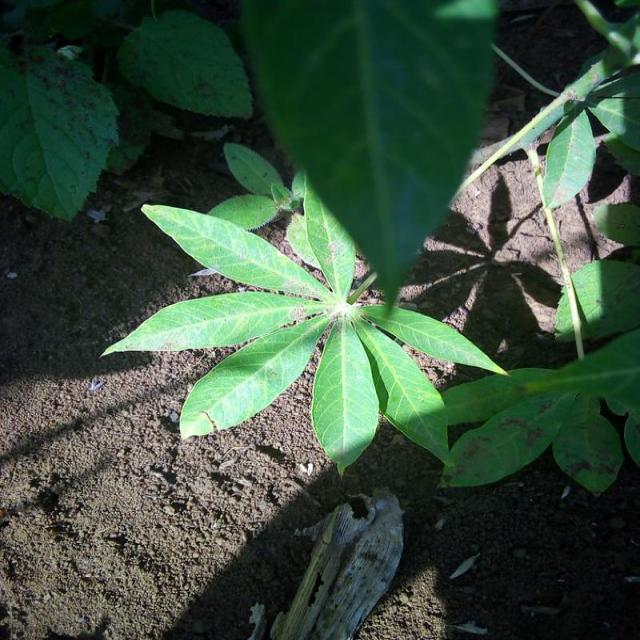cassava leaf: (98, 168, 510, 476), (238, 0, 498, 304), (0, 41, 120, 222), (116, 9, 254, 120), (310, 317, 379, 476)
